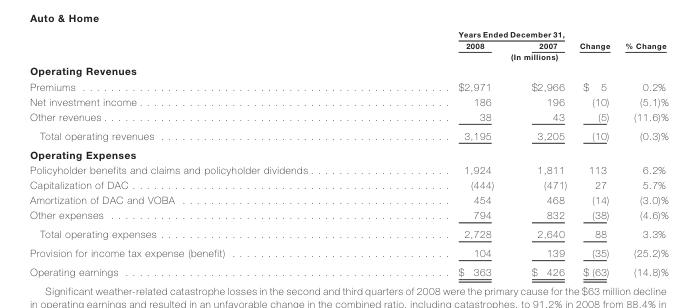table: (29, 29, 667, 277)
table column: (29, 29, 385, 277), (385, 29, 512, 277), (512, 29, 572, 277), (616, 29, 667, 277), (572, 29, 616, 277)
table column header: (29, 29, 667, 62)
table projected row header: (29, 144, 667, 161), (29, 62, 667, 78)
table row: (29, 125, 667, 144), (29, 224, 667, 243), (29, 243, 667, 262), (29, 108, 667, 125), (29, 144, 667, 161), (29, 207, 667, 224), (29, 62, 667, 78), (29, 176, 667, 192), (29, 78, 667, 93), (29, 93, 667, 108), (29, 161, 667, 176), (29, 192, 667, 207), (29, 262, 667, 277), (29, 50, 667, 62), (29, 39, 667, 50), (29, 29, 667, 39)
table spanning cell: (385, 50, 616, 62), (385, 29, 572, 39), (616, 29, 667, 62), (572, 29, 616, 50)
